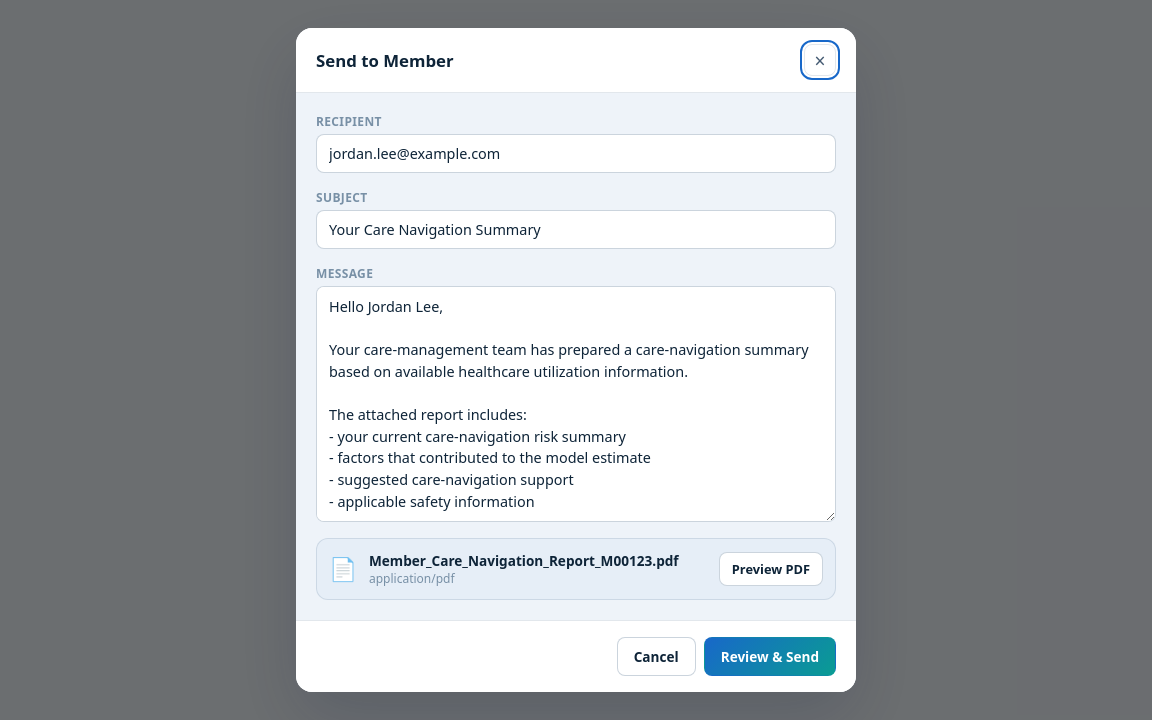
Test: EmailComposerModal › shows a success state and remembers the recipient contact after a successful send
Click the button "Review & Send": x=770, y=656 [704,637,836,676]
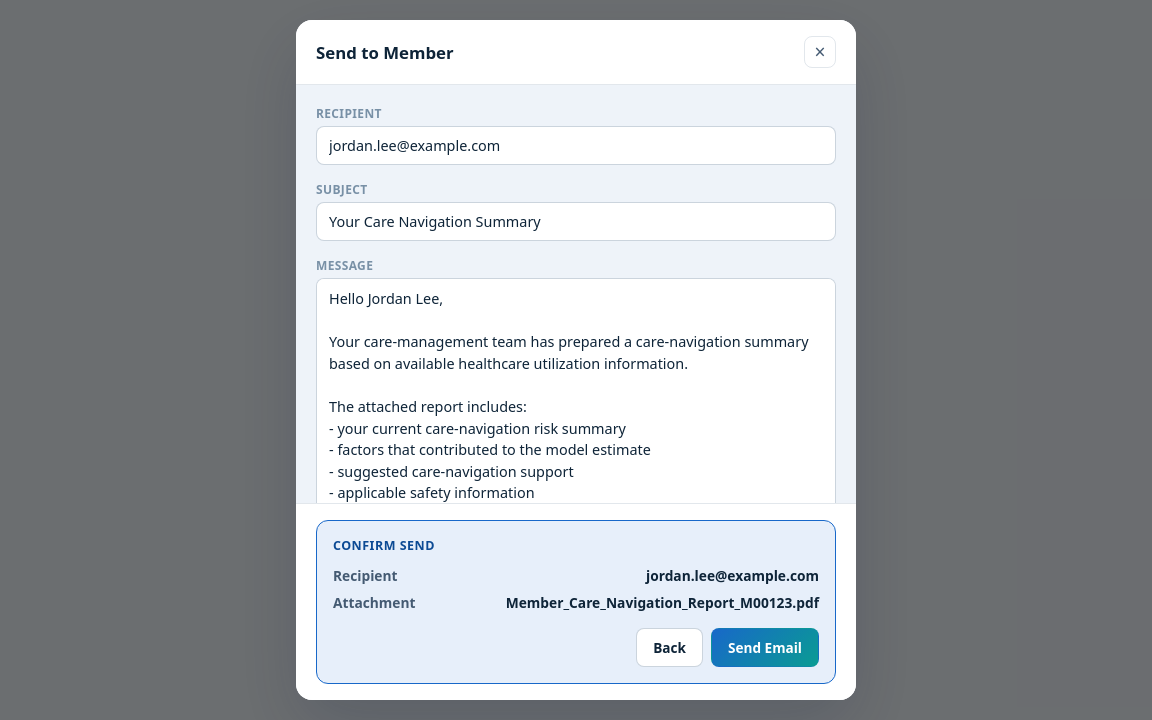
Click the button "Send Email": x=765, y=648 [711,628,819,667]
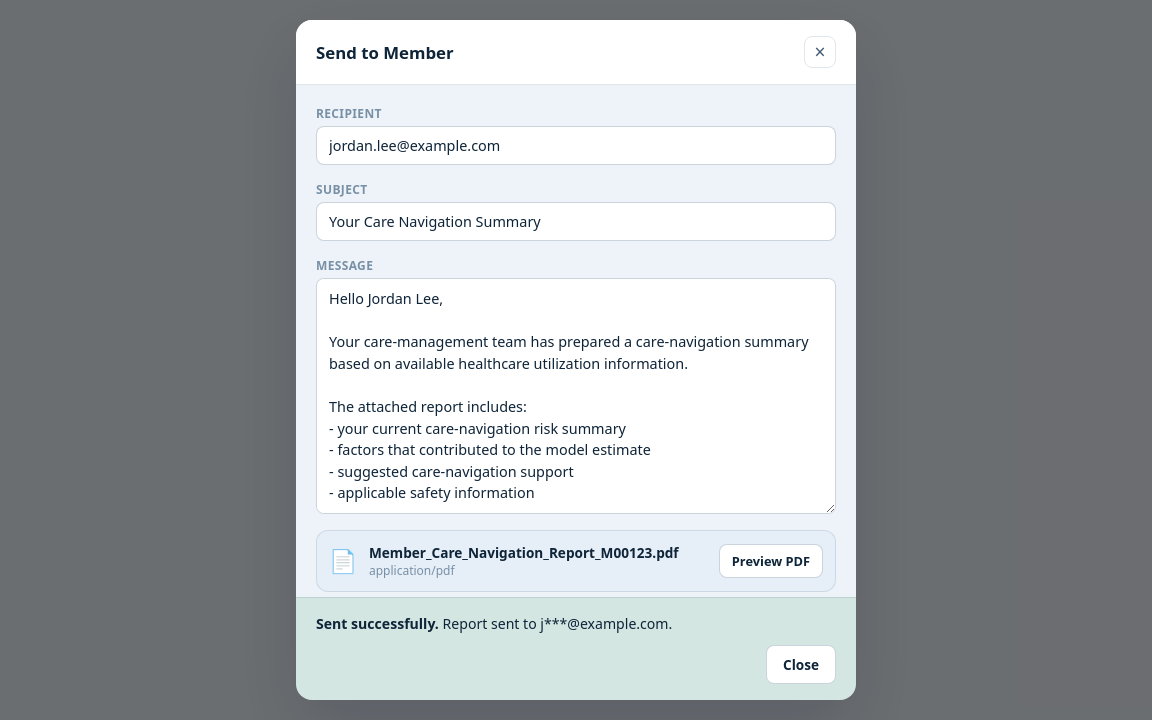
Check: the text "Sent successfully." is shown, box [316,614,439,633]
Check: the text "Sent successfully. Report sent to j***@example.com. Close" is shown, box [296,597,856,700]
